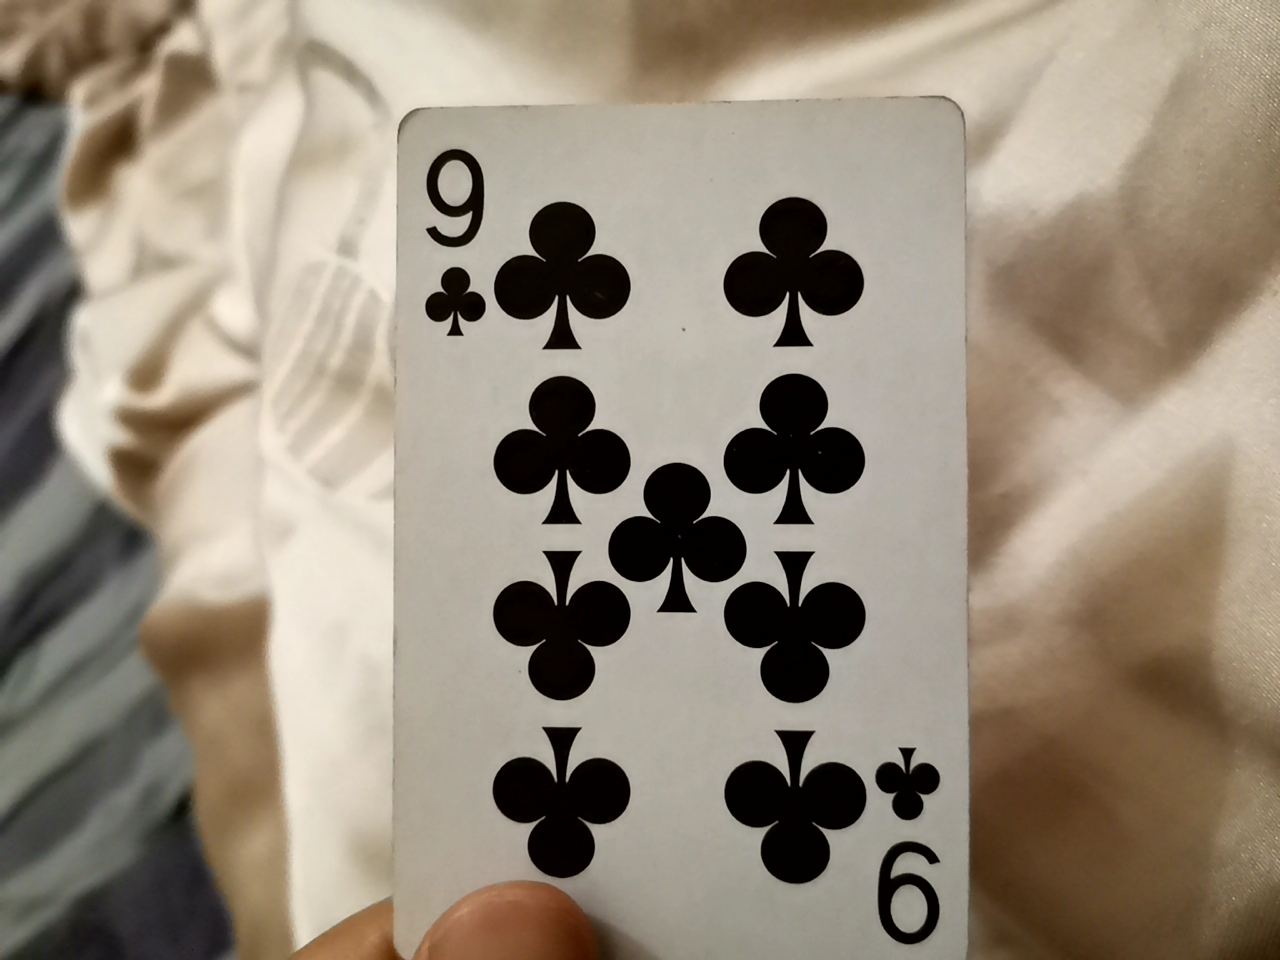mh 9: (357, 81, 990, 951)
